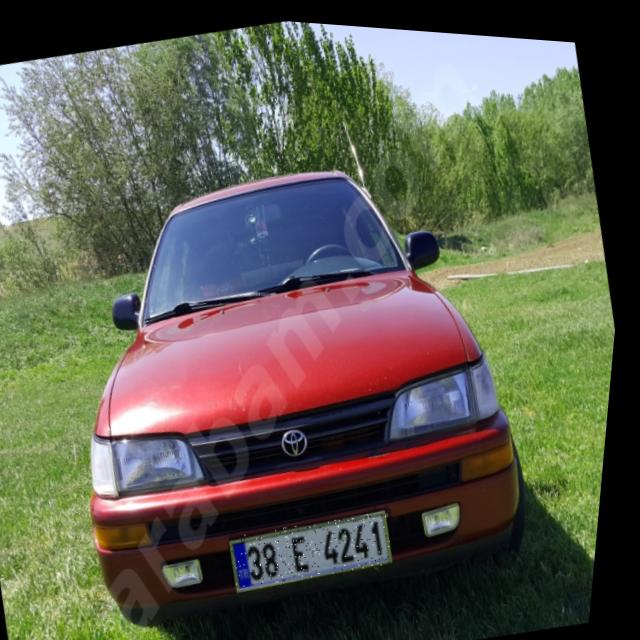license_plate: (234, 495, 406, 593)
